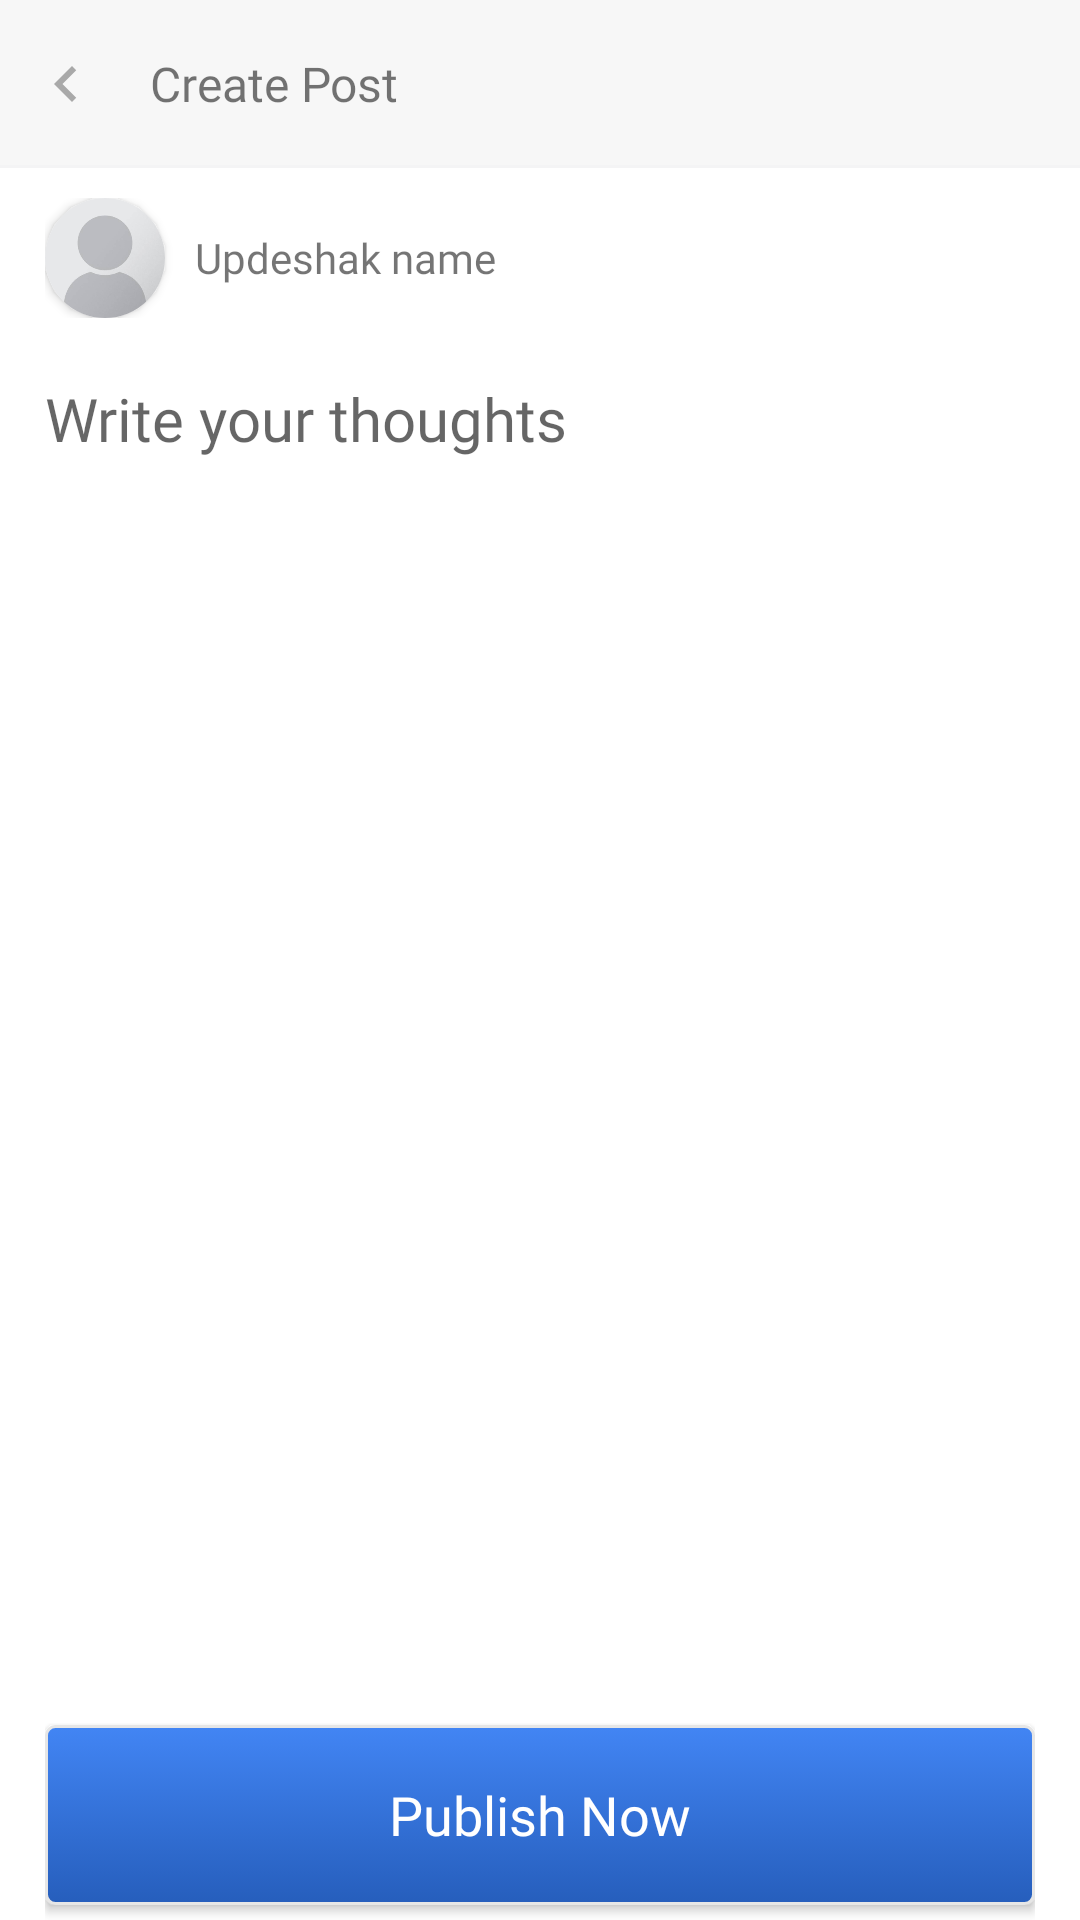

Where icons sit on this 1080x1920 app screen, as bbox(x1, y1, x2, y2):
chevron left: bbox(54, 66, 76, 102)
